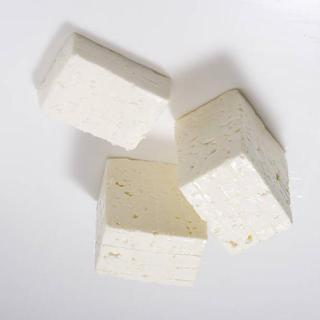Tahu: (172, 76, 297, 261), (90, 154, 216, 293), (36, 35, 180, 155)
